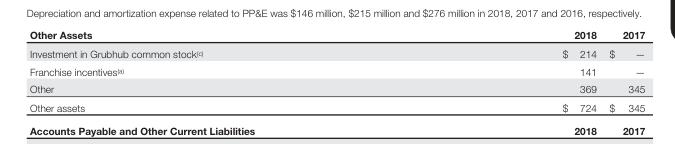table: (28, 28, 644, 112)
table column: (28, 28, 382, 112), (382, 28, 602, 112), (602, 28, 644, 112)
table column header: (28, 28, 644, 44)
table row: (28, 44, 644, 62), (28, 79, 644, 97), (28, 62, 644, 79), (28, 28, 644, 44), (28, 97, 644, 112)
